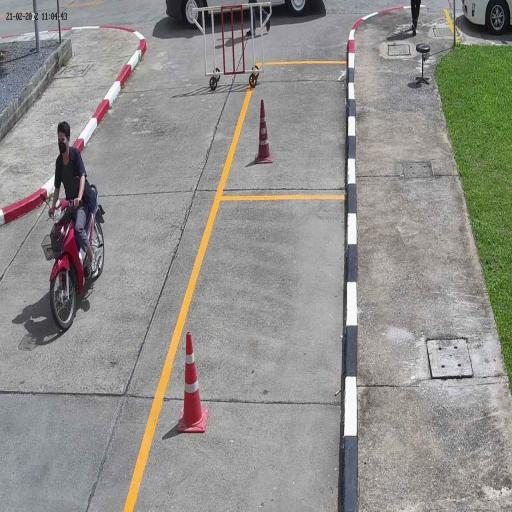motorcycle: (47, 201, 107, 330)
